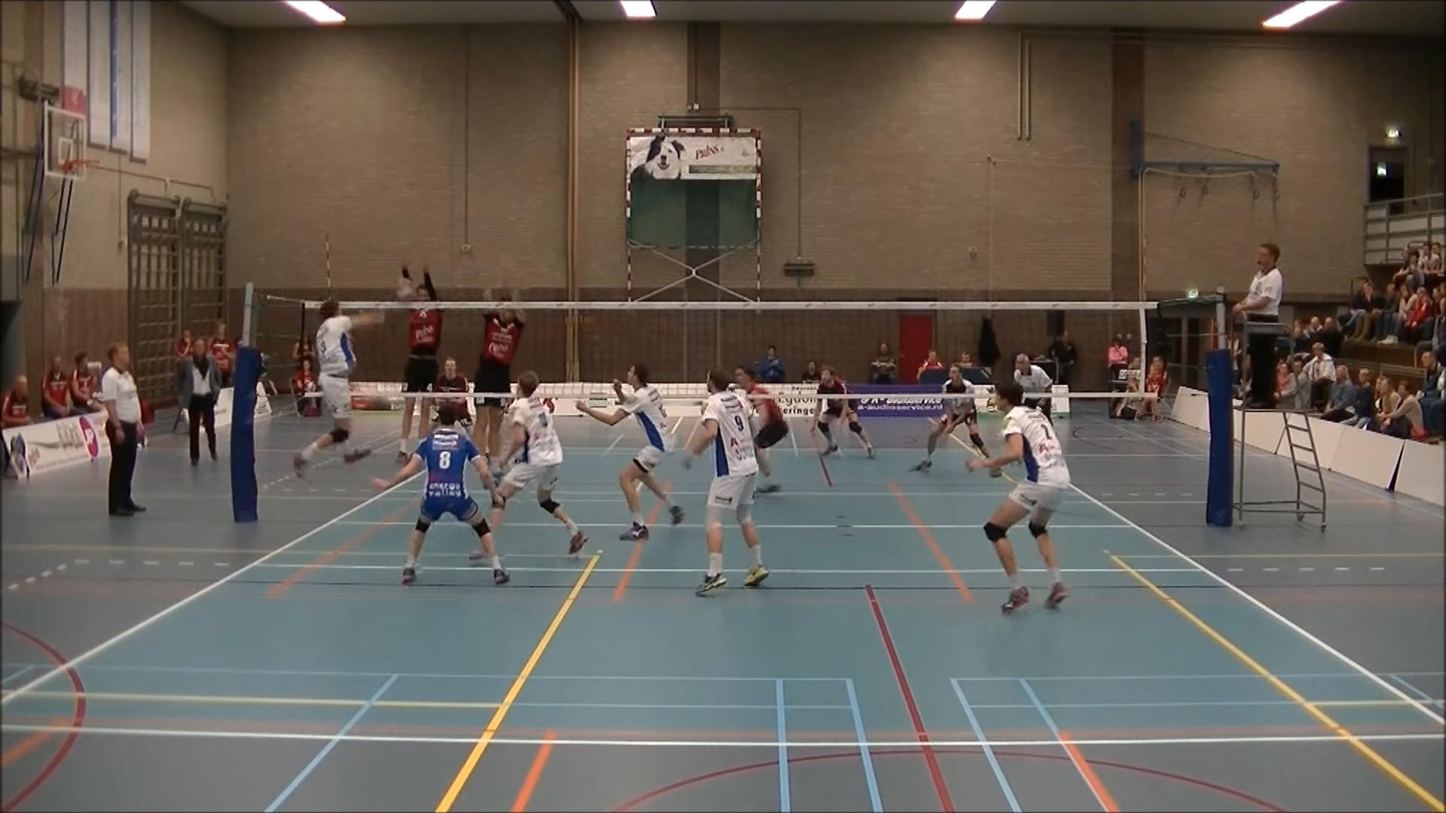Attack: (281, 289, 394, 478)
Block: (466, 269, 529, 483), (397, 254, 434, 469)
Player: (373, 403, 509, 584), (968, 384, 1069, 613), (575, 364, 684, 540), (683, 370, 768, 595), (493, 372, 587, 553), (913, 364, 988, 470), (735, 367, 789, 493), (810, 365, 875, 458), (432, 358, 471, 427)
